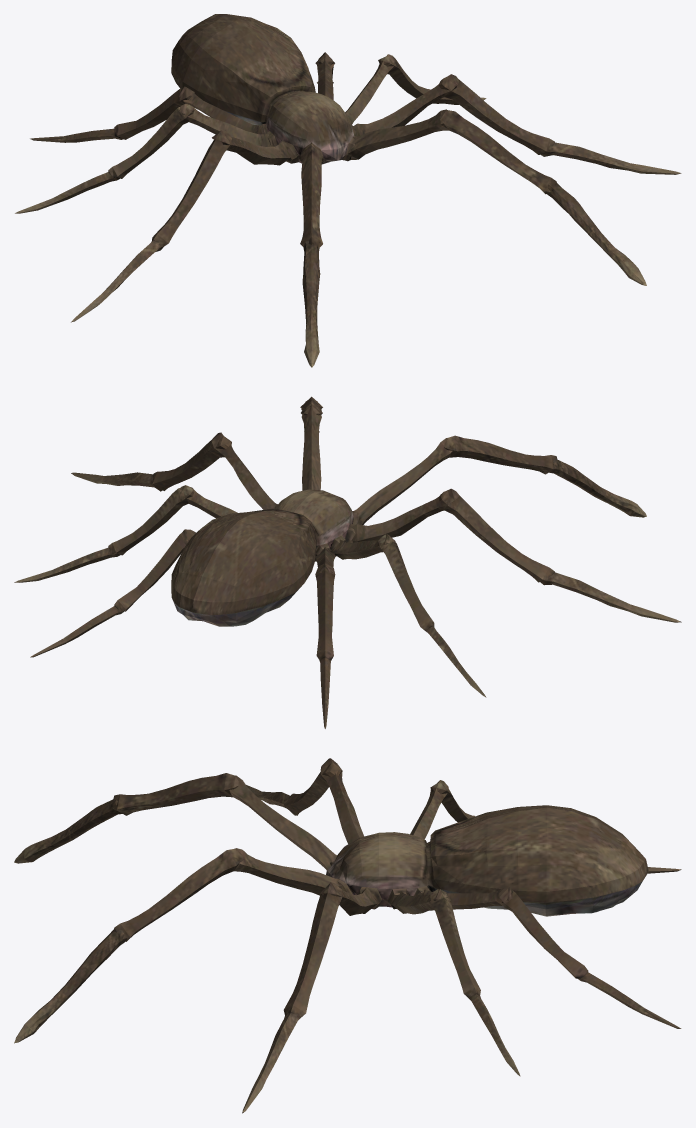
Rendered from spider.obj.
The picture shows the model from 3 angles, top to bottom: view 1: azimuth 30°, elevation 25°; view 2: azimuth 150°, elevation 25°; view 3: azimuth 270°, elevation 25°; orthographic projection. The views are drawn at different scales.
Parts seen in each view (by area): view 1: Mesh_0280; view 2: Mesh_0280; view 3: Mesh_0280.
Part boxes in pixels (box(x1,y1,x2,y2)): Mesh_0280: box(15, 14, 681, 367); Mesh_0280: box(14, 396, 681, 728); Mesh_0280: box(14, 758, 681, 1113).
Bounding box in the file's own units: 11.18 × 2.3 × 9.57.
